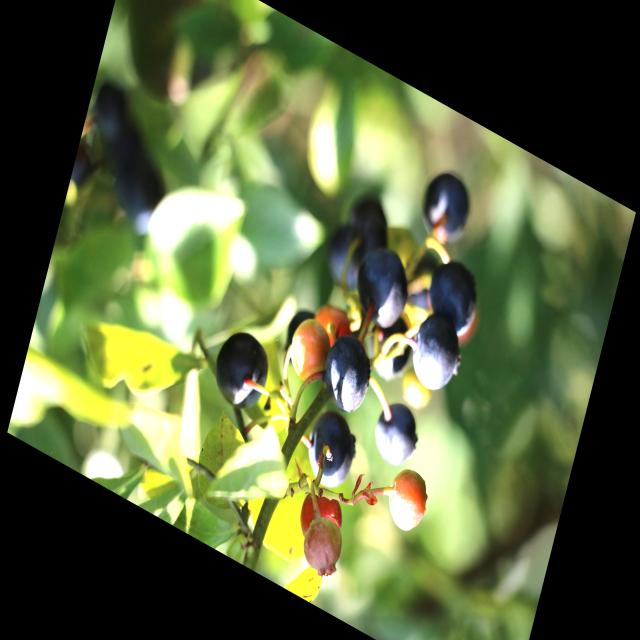blueberry: (298, 400, 366, 500), (209, 320, 276, 420), (413, 162, 479, 261), (314, 324, 380, 423), (419, 247, 487, 343), (401, 304, 467, 402), (350, 238, 416, 336), (359, 308, 416, 394), (319, 217, 370, 303), (368, 396, 421, 473)
blueberry-halfripe: (284, 302, 336, 386), (294, 478, 349, 553), (383, 462, 432, 539), (299, 516, 347, 580)
